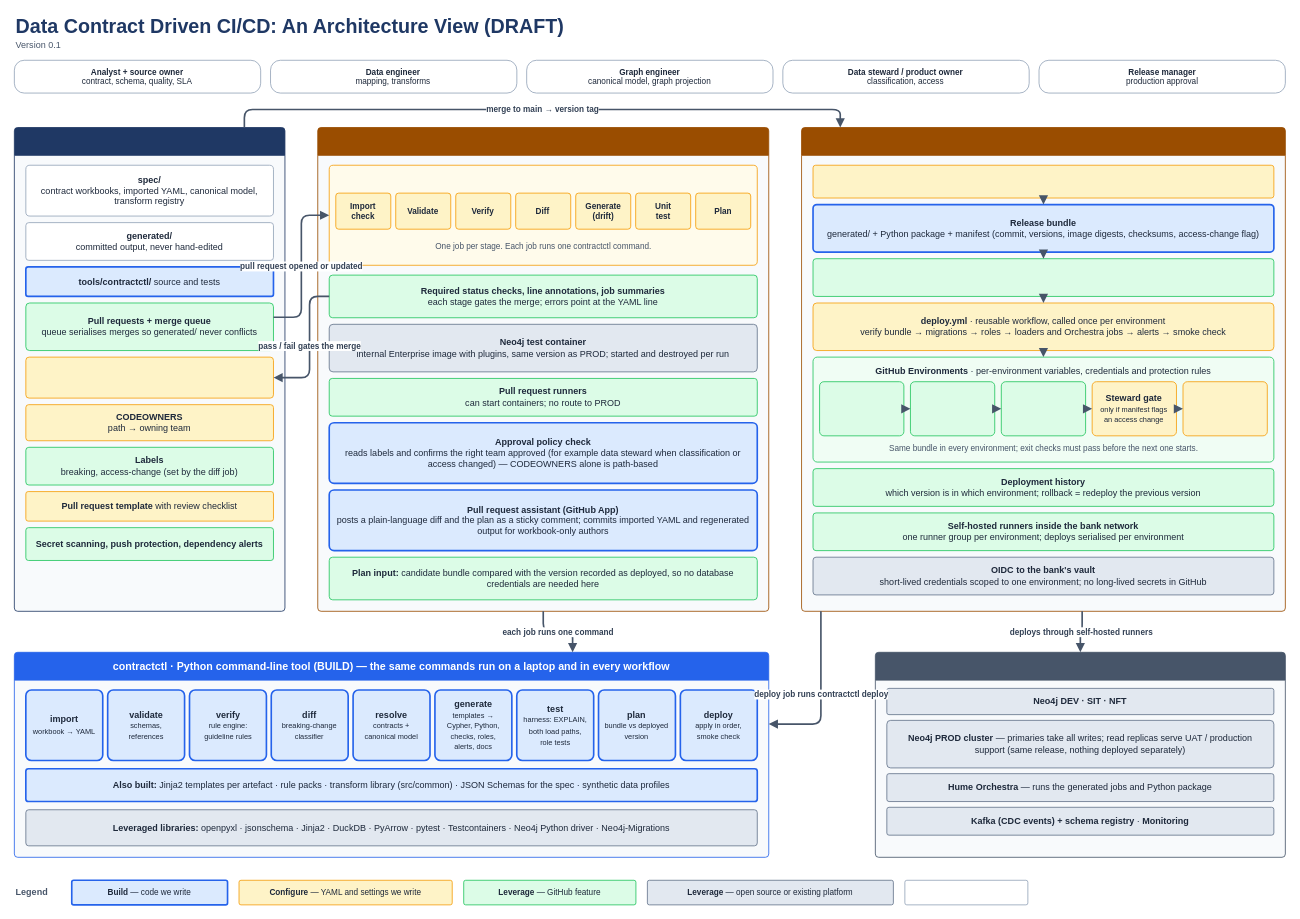
Some shapes in this 1300 by 919 pixel diagram are drawn without their labels. Here are the shapes that lost their labels. From the top down, the box of each, then its label:
(812, 164, 1274, 198): release.yml · on a version tag: build one bundle, assign migration numbers
(328, 164, 757, 265): contract-ci.yml · GitHub Actions workflow, runs on every pull request
(812, 258, 1274, 296): GitHub Releases or the bank's artefact repository immutable store for bundles
(25, 356, 273, 398): Rulesets on main pull request required, required checks, no bypass
(14, 127, 285, 611): GitHub repository and governance
(317, 127, 769, 611): Lane 2 · Generate and test pipeline
(801, 127, 1285, 611): Lane 3 · Release and promote
(819, 381, 904, 436): DEV automatic deploy check
(910, 381, 995, 436): SIT automatic integration tests
(1000, 381, 1086, 436): NFT automatic Day 0 rehearsal, reconciliation, load
(1182, 381, 1267, 436): PROD required reviewers, no self-approval
(875, 651, 1285, 857): Target platforms (existing)
(904, 879, 1028, 905): Repository content
